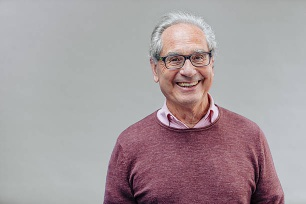male: (153, 23, 213, 110)
